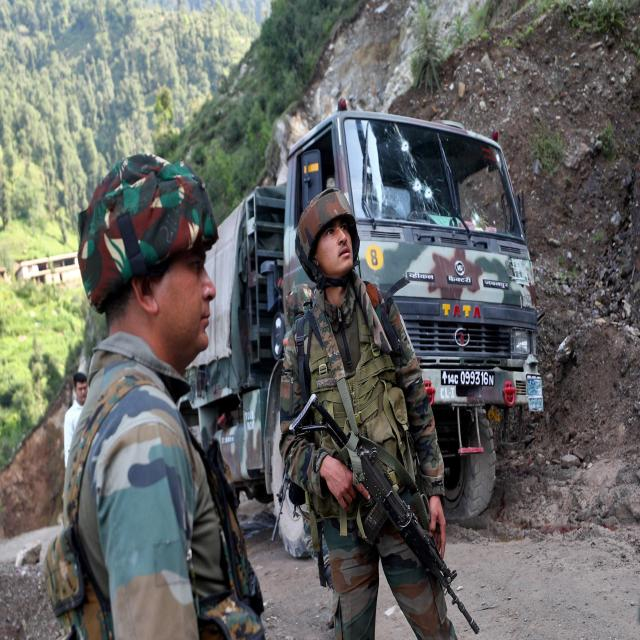0: (461, 372, 465, 384)
1: (481, 372, 484, 386), (448, 374, 451, 384)
3: (475, 371, 480, 384)
4: (450, 375, 454, 384)
6: (484, 372, 488, 385)
9: (470, 372, 475, 384), (466, 372, 470, 384)
c: (454, 375, 458, 384)
n: (489, 375, 494, 385)
